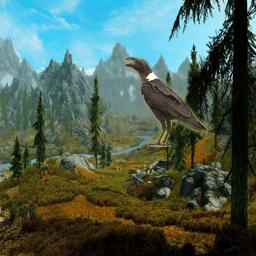Crow: (123, 56, 208, 147)
